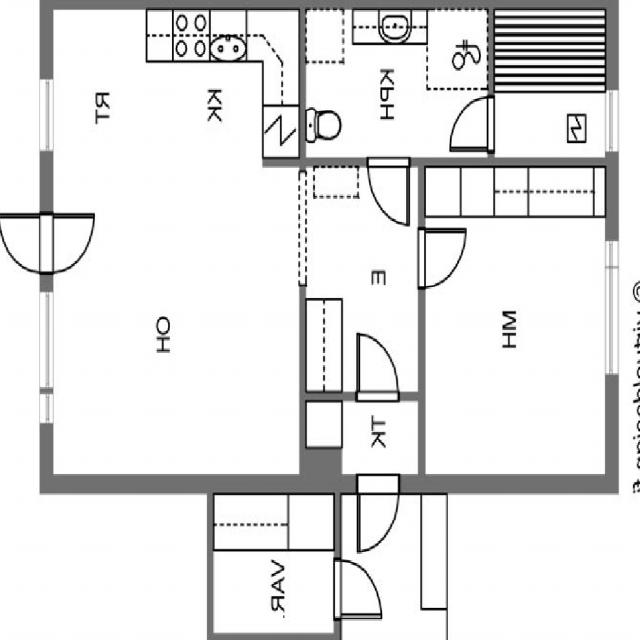door: (0, 214, 53, 272), (40, 214, 93, 272), (358, 475, 398, 550), (357, 331, 399, 399), (334, 560, 382, 618), (420, 229, 467, 288), (447, 96, 496, 152), (369, 158, 409, 224)
